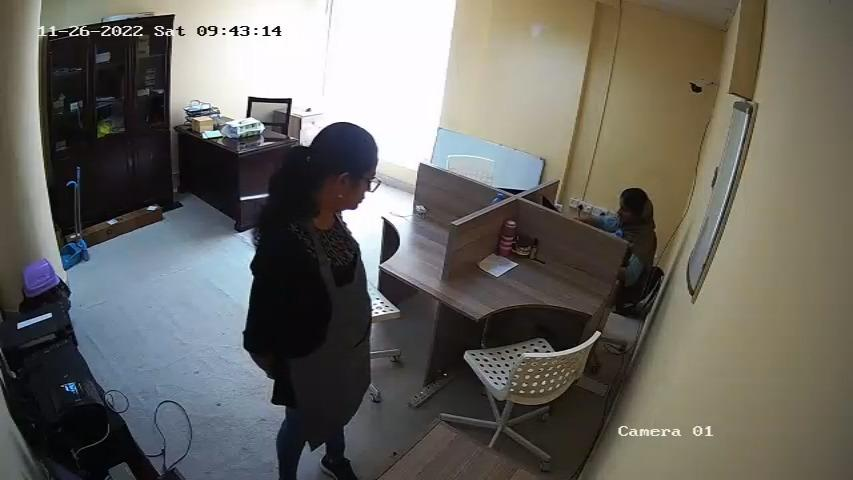apron: (288, 217, 371, 389)
